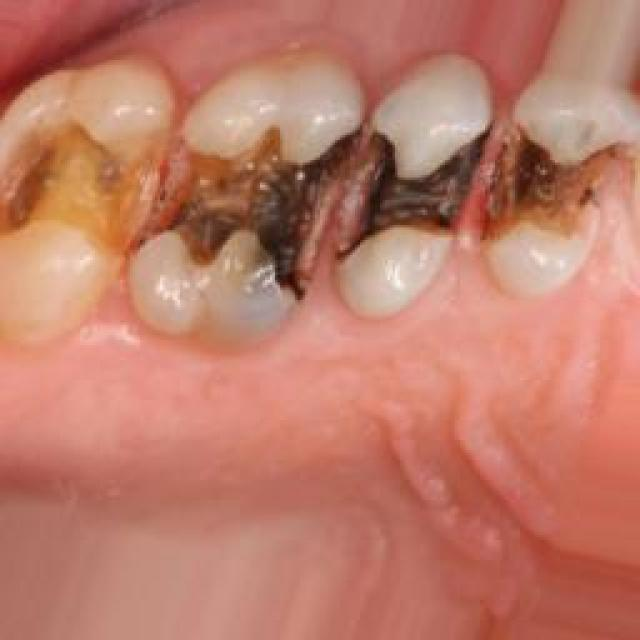caries: (160, 138, 333, 288), (5, 130, 143, 255), (355, 138, 463, 251), (490, 140, 605, 245)
